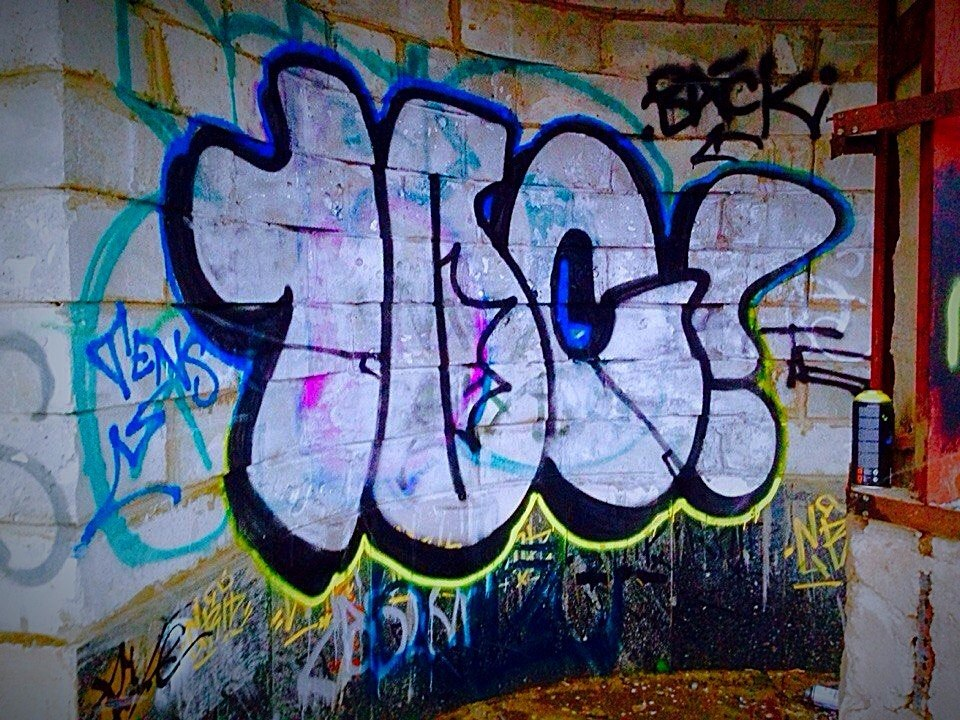graffity: (166, 43, 851, 600), (80, 282, 227, 567), (635, 34, 841, 166), (299, 578, 478, 699), (777, 480, 865, 607), (168, 571, 264, 661)
